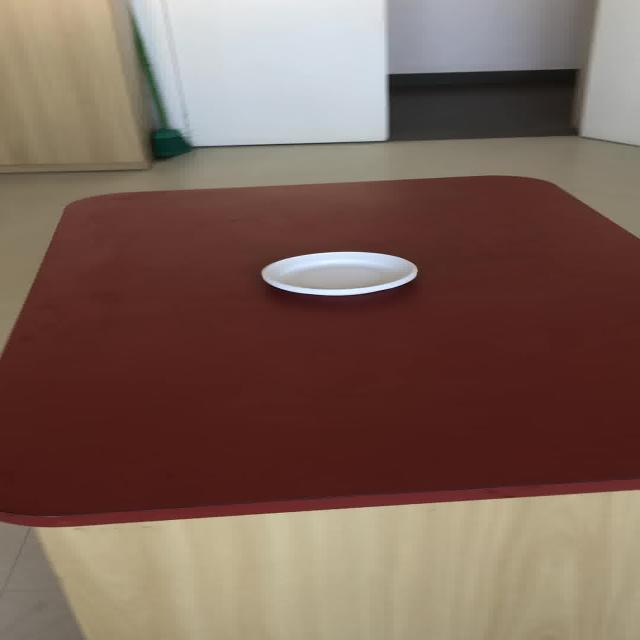plate: (260, 250, 418, 296)
